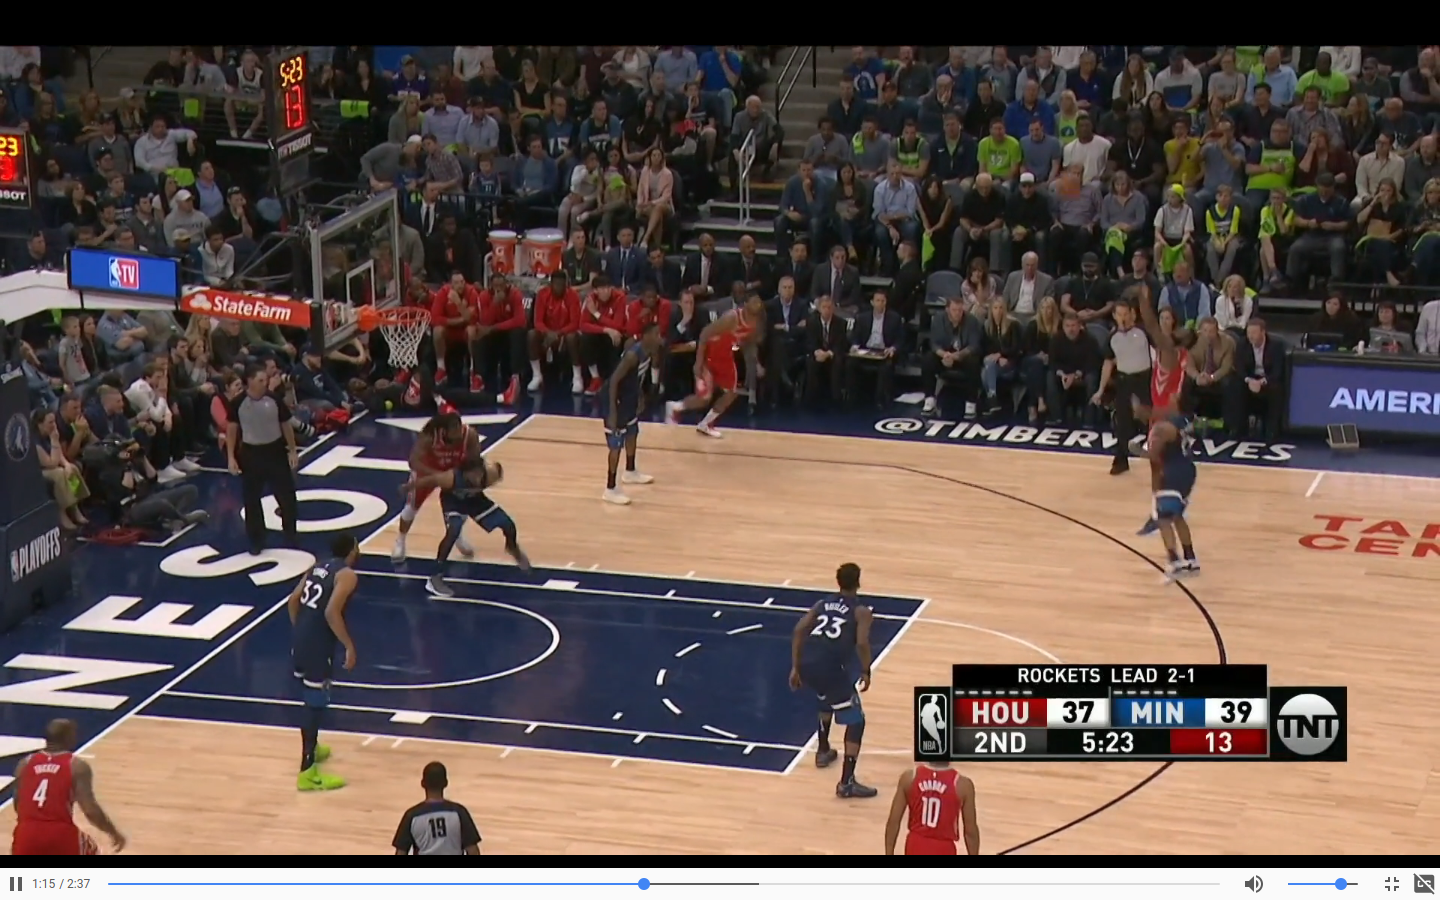ball: (1061, 180, 1088, 209)
player: (286, 540, 368, 793), (801, 576, 872, 799), (670, 303, 770, 445), (427, 450, 508, 590), (18, 735, 112, 849), (601, 332, 668, 494), (1151, 402, 1207, 589), (1132, 334, 1201, 407)
